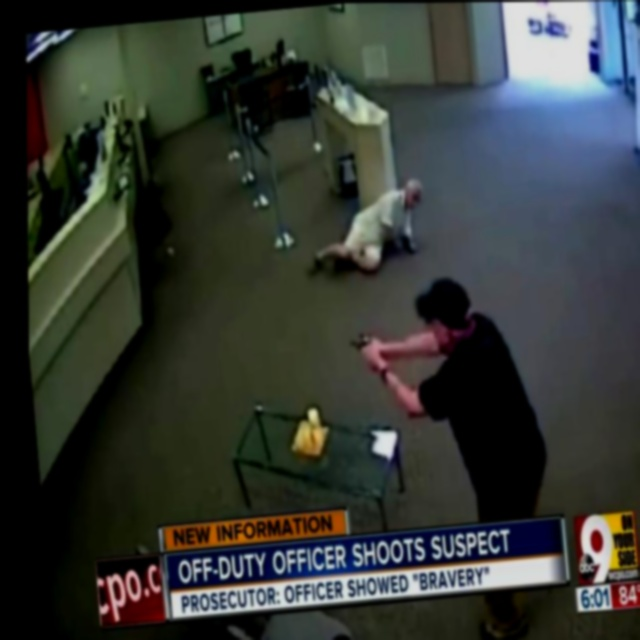gun: (342, 324, 384, 358)
